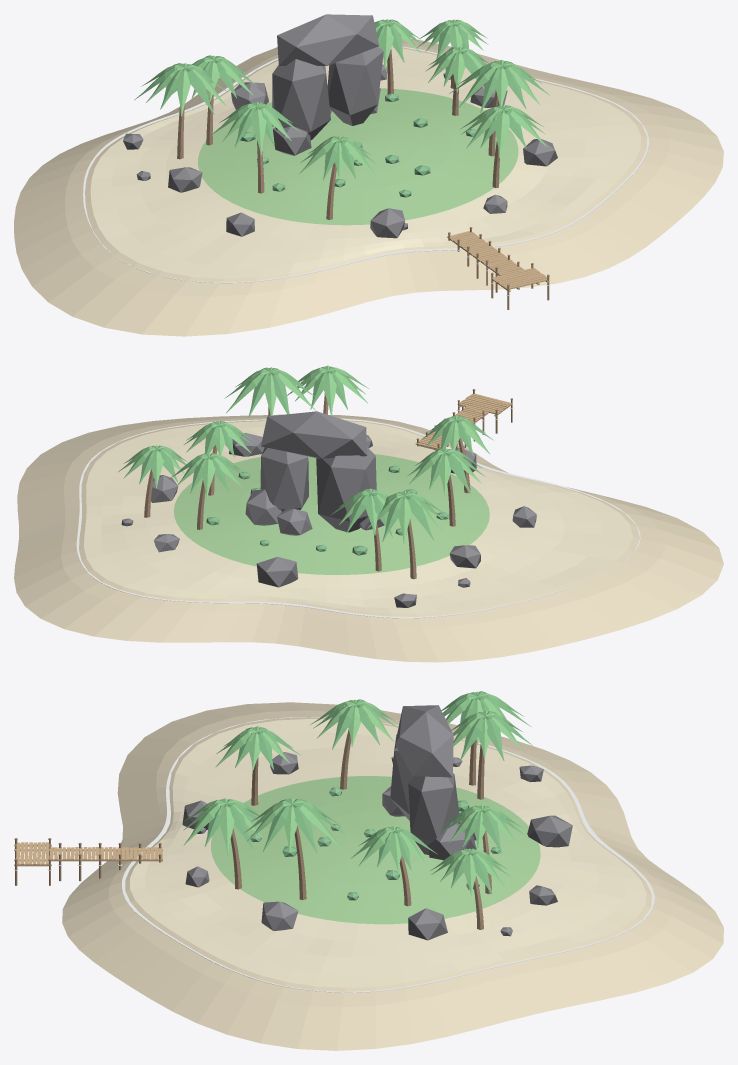
The model's file is island.glb.
3 renders of one model, top to bottom at view 1: azimuth 30°, elevation 25°; view 2: azimuth 150°, elevation 25°; view 3: azimuth 270°, elevation 25°, orthographic. The views are drawn at different scales.
Parts seen in each view (by area): view 1: Island_Base, Island_Rocks, Palm_Fronds, Island_Foam, Palm_Trunks, Dock_Planks, Island_Bushes, Dock_Posts; view 2: Island_Base, Island_Rocks, Palm_Fronds, Island_Foam, Palm_Trunks, Dock_Planks, Island_Bushes; view 3: Island_Base, Palm_Fronds, Island_Rocks, Palm_Trunks, Island_Foam, Dock_Planks, Island_Bushes, Dock_Posts.
Boxes of the visible parts, x1=… form: Island_Base: x1=14, y1=38, x2=723, y2=336; Island_Rocks: x1=123, y1=14, x2=557, y2=238; Palm_Fronds: x1=134, y1=19, x2=549, y2=179; Island_Foam: x1=83, y1=45, x2=648, y2=295; Palm_Trunks: x1=177, y1=47, x2=499, y2=219; Dock_Planks: x1=447, y1=231, x2=548, y2=291; Island_Bushes: x1=240, y1=93, x2=476, y2=197; Dock_Posts: x1=448, y1=227, x2=549, y2=309; Island_Base: x1=14, y1=414, x2=723, y2=662; Island_Rocks: x1=121, y1=411, x2=536, y2=607; Palm_Fronds: x1=118, y1=365, x2=493, y2=544; Island_Foam: x1=76, y1=407, x2=640, y2=618; Palm_Trunks: x1=144, y1=393, x2=470, y2=579; Dock_Planks: x1=415, y1=393, x2=512, y2=450; Island_Bushes: x1=206, y1=465, x2=448, y2=555; Island_Base: x1=62, y1=702, x2=723, y2=1050; Palm_Fronds: x1=183, y1=691, x2=532, y2=895; Island_Rocks: x1=182, y1=705, x2=572, y2=940; Palm_Trunks: x1=230, y1=729, x2=491, y2=929; Island_Foam: x1=14, y1=717, x2=654, y2=992; Dock_Planks: x1=14, y1=842, x2=162, y2=866; Island_Bushes: x1=250, y1=787, x2=500, y2=900; Dock_Posts: x1=14, y1=838, x2=161, y2=885.
Size of the model in its own units: 289 by 64.48 by 249.
